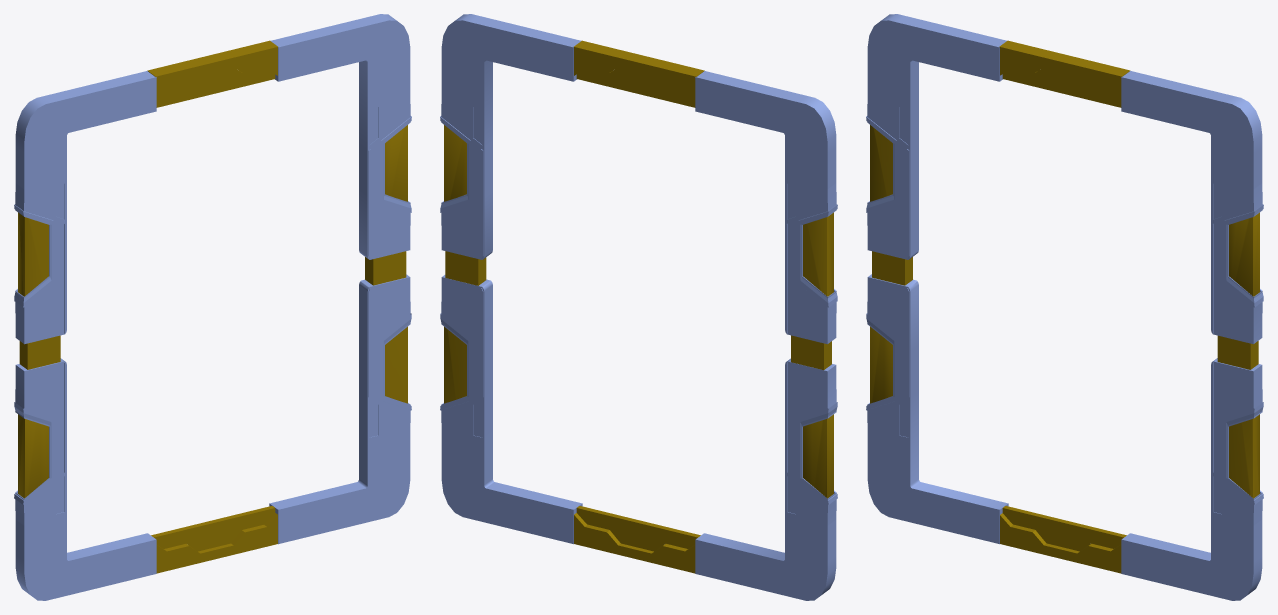
Rendered from Sach_Card.fbx.
3 views of the same model, side by side, from view 1: azimuth 30°, elevation 25°; view 2: azimuth 150°, elevation 25°; view 3: azimuth 330°, elevation 25° (orthographic).
Parts seen in each view (by area): view 1: Test_Card_1; view 2: Test_Card_1; view 3: Test_Card_1.
Boxes of the visible parts, x1,y1,x2,y2 form: Test_Card_1: (14,14,411,600); Test_Card_1: (440,14,837,600); Test_Card_1: (866,14,1263,600).
Size of the model in its own units: 1.88 by 2.3 by 0.0807.
